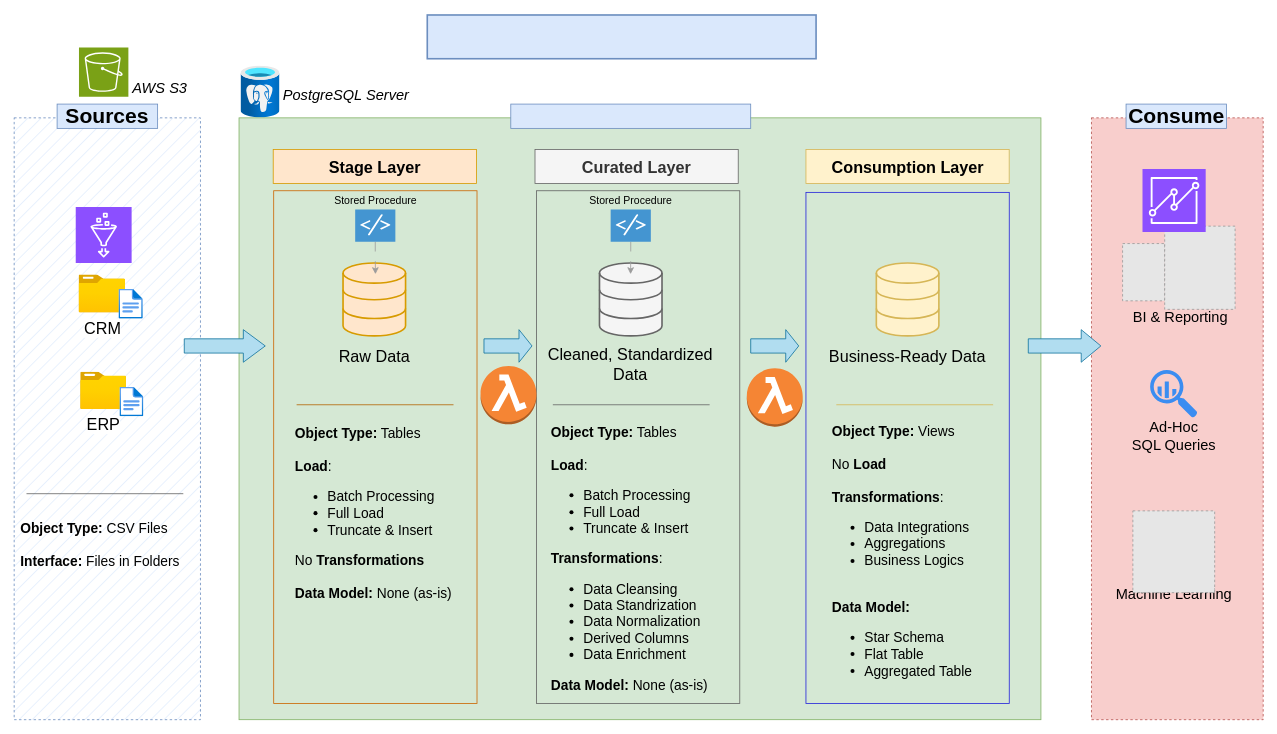
Some shapes in this 1277 by 734 pixel diagram are drawn without their labels. Grey dashed boxes stand in for pictures. Here are the shapes that lost their labels. From the top down, the box of each, then its label:
(426, 14, 816, 59): High Level Architecture
(510, 103, 751, 128): Data Warehouse
